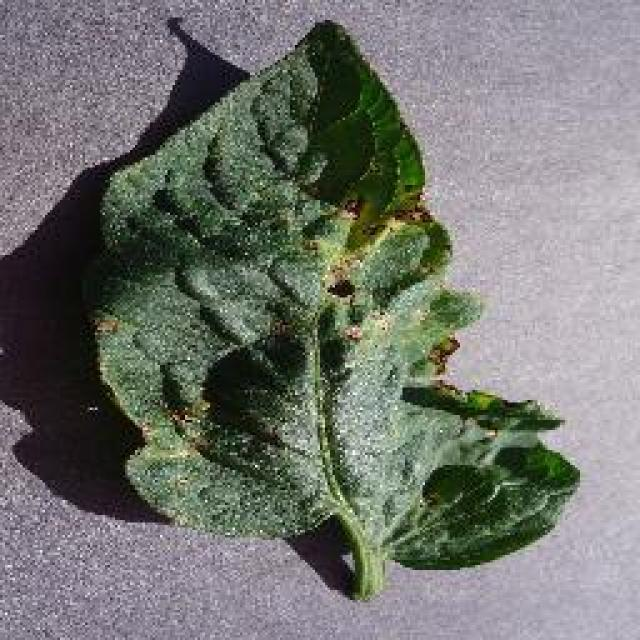Tomato Septoria spot leaf: (94, 25, 576, 573)
